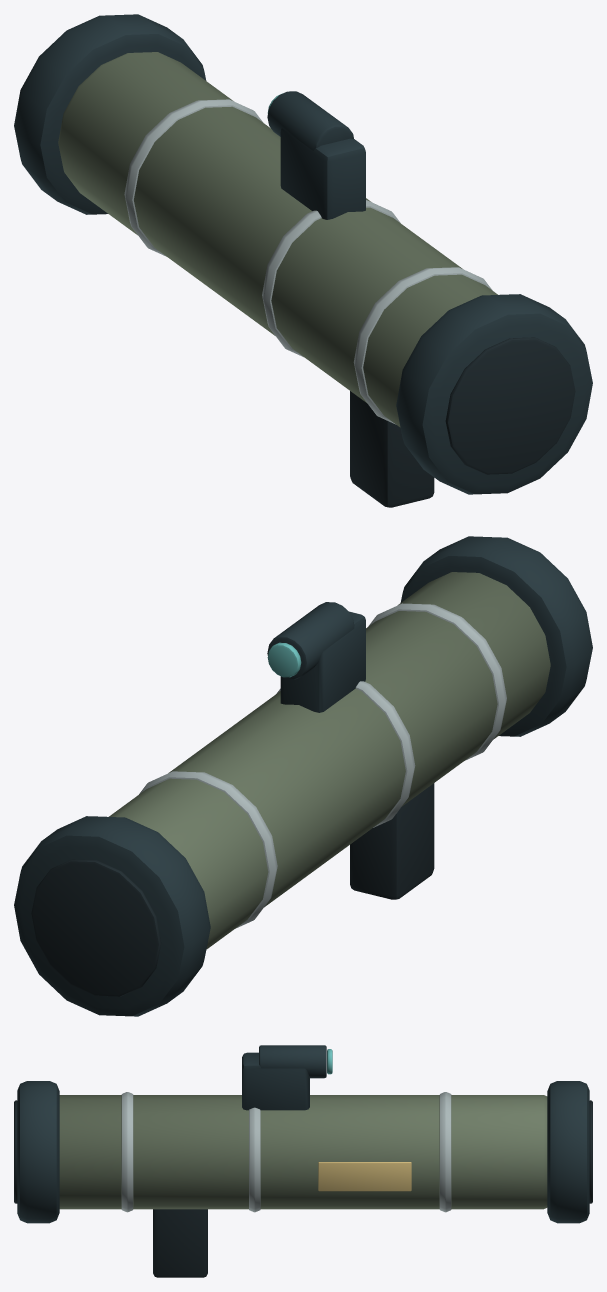
The model's file is kf-weapon-rocket.glb.
3 renders of one model, top to bottom at view 1: azimuth 30°, elevation 25°; view 2: azimuth 150°, elevation 25°; view 3: azimuth 270°, elevation 25°, orthographic. The views are drawn at different scales.
Visible parts, largest first — view 1: Weapon Painted receiver, Weapon Gunmetal, Weapon Grip rubber, Weapon Machined steel; view 2: Weapon Painted receiver, Weapon Gunmetal, Weapon Grip rubber, Weapon Machined steel, Weapon Lens; view 3: Weapon Painted receiver, Weapon Gunmetal, Weapon Grip rubber, Weapon Machined steel, Weapon Markings.
Part boxes in pixels (bbox=[...]): Weapon Painted receiver: bbox=[58, 52, 497, 427]; Weapon Gunmetal: bbox=[14, 14, 592, 494]; Weapon Grip rubber: bbox=[350, 337, 575, 507]; Weapon Machined steel: bbox=[124, 99, 492, 424]; Weapon Painted receiver: bbox=[109, 572, 550, 949]; Weapon Gunmetal: bbox=[14, 536, 592, 1016]; Weapon Grip rubber: bbox=[31, 783, 434, 996]; Weapon Machined steel: bbox=[139, 603, 506, 928]; Weapon Lens: bbox=[267, 642, 301, 677]; Weapon Painted receiver: bbox=[59, 1095, 547, 1209]; Weapon Gunmetal: bbox=[17, 1045, 589, 1223]; Weapon Grip rubber: bbox=[14, 1100, 592, 1277]; Weapon Machined steel: bbox=[121, 1092, 451, 1212]; Weapon Markings: bbox=[318, 1162, 411, 1191].
Size of the model in its own units: 0.336 by 0.584 by 1.37.
